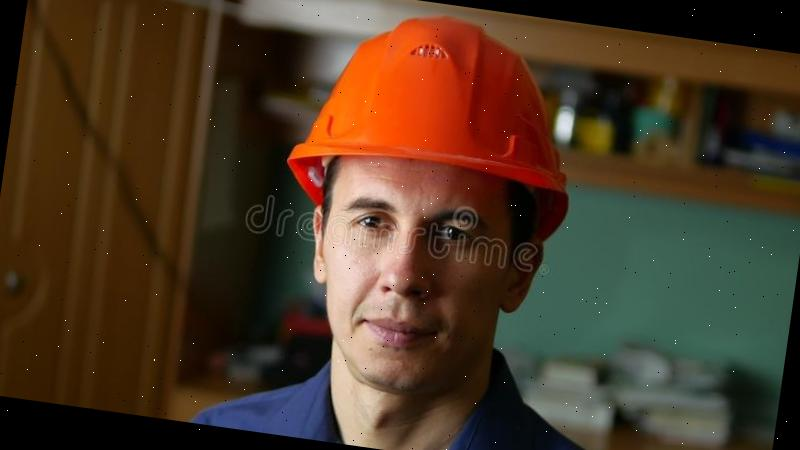helmet: (280, 7, 598, 218)
